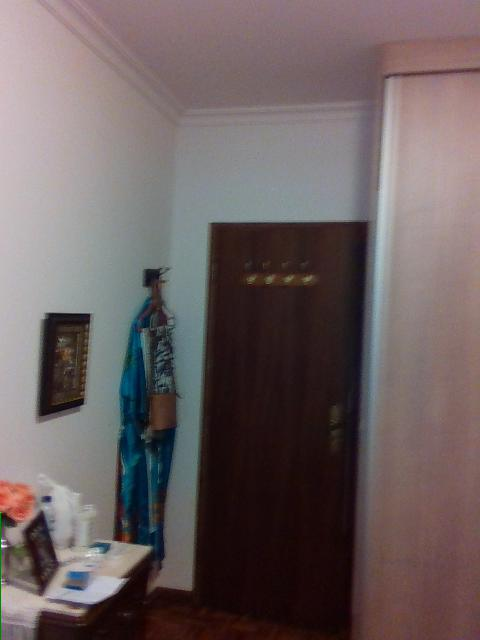door: (195, 220, 369, 626)
